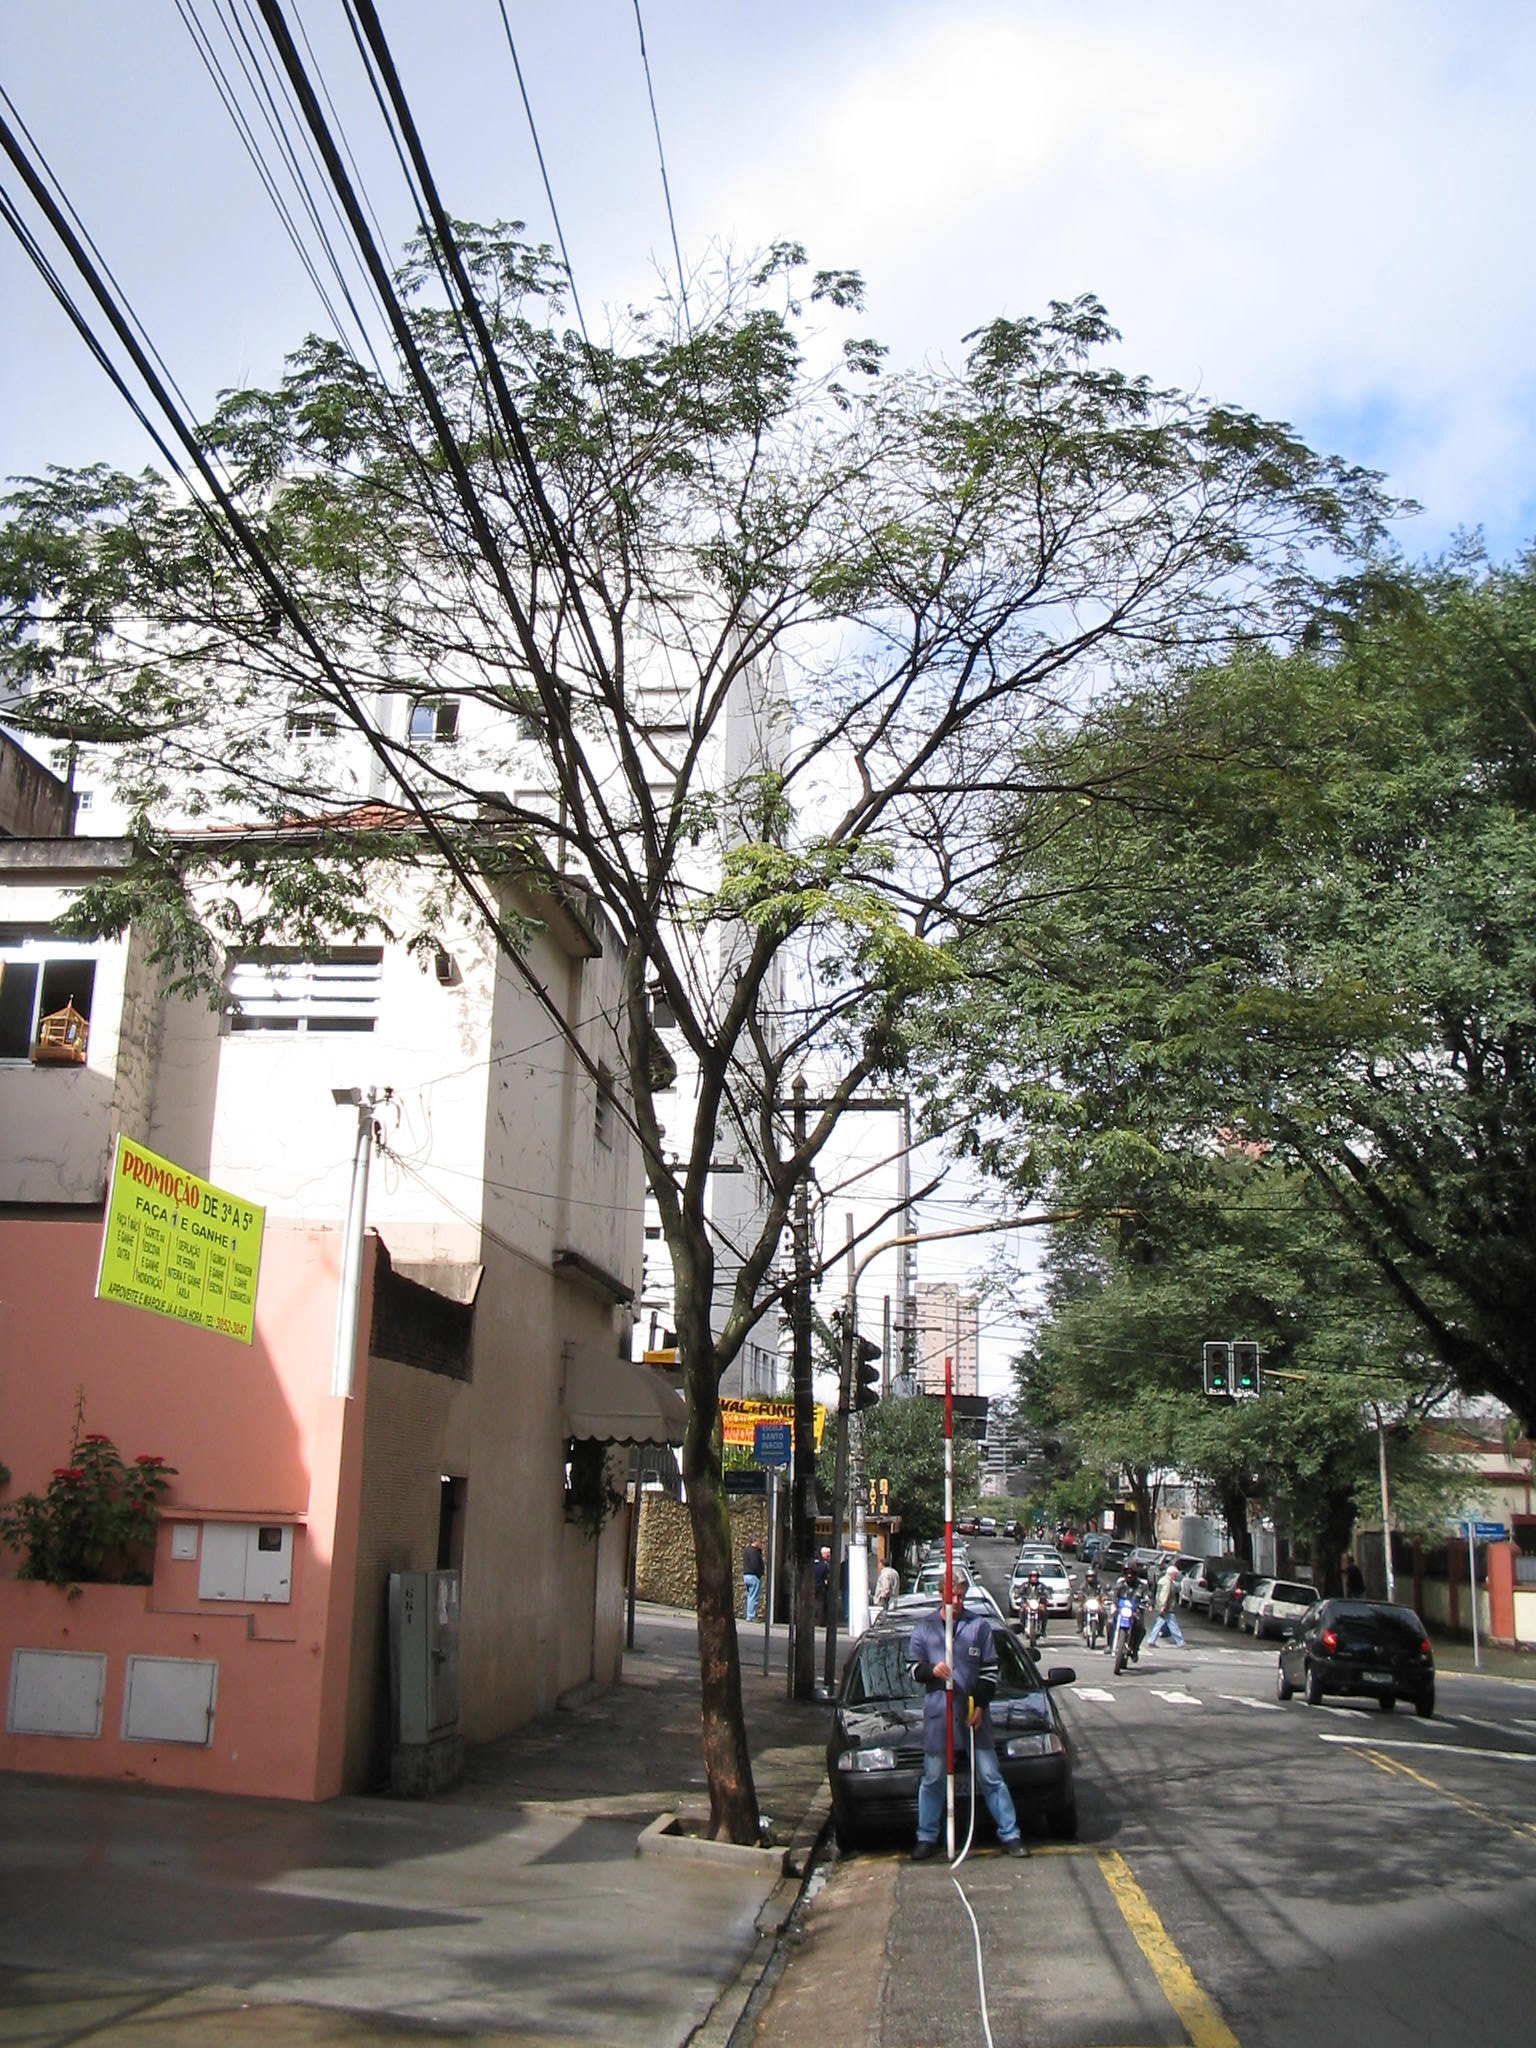crown: (15, 216, 1396, 1176), (962, 568, 1536, 1259)
stem: (652, 1397, 791, 1845)
stick: (925, 1347, 966, 1867)
tree: (6, 211, 1407, 1846)
